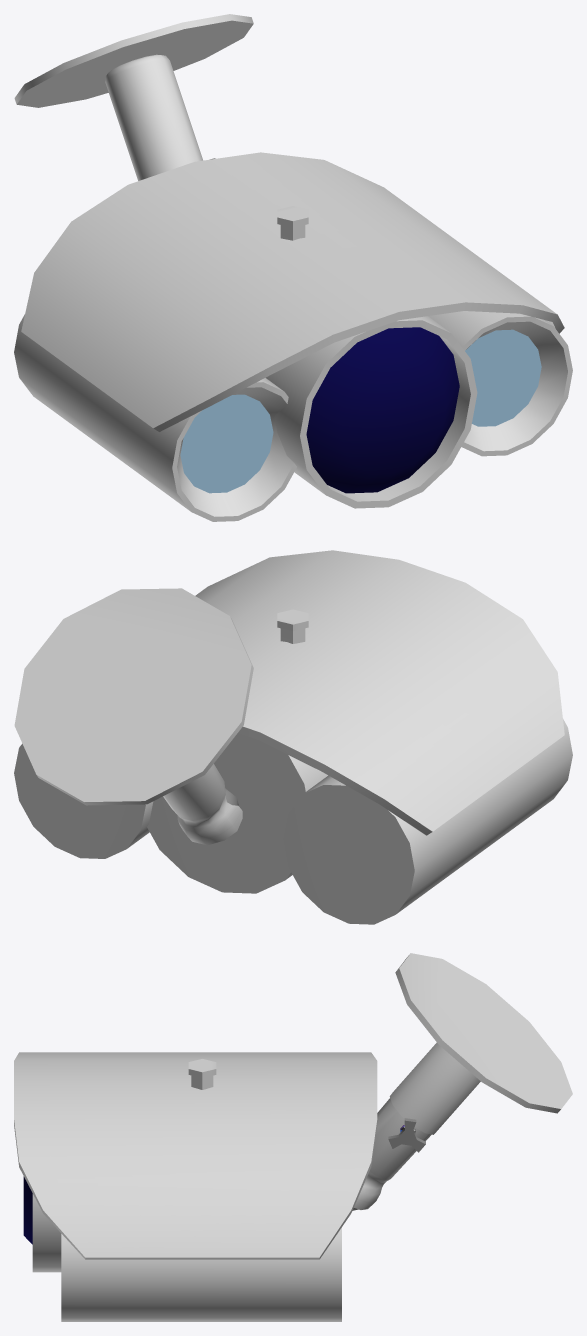
3 renders of one model, top to bottom at view 1: azimuth 30°, elevation 25°; view 2: azimuth 150°, elevation 25°; view 3: azimuth 270°, elevation 25°, orthographic. The views are drawn at different scales.
Visible parts, largest first — view 1: Lo-Body_01; view 2: Lo-Body_01; view 3: Lo-Body_01.
Part boxes in pixels (x1=…): Lo-Body_01: x1=14, y1=14, x2=572, y2=521; Lo-Body_01: x1=14, y1=550, x2=572, y2=924; Lo-Body_01: x1=14, y1=953, x2=572, y2=1321.
Bounding box in the file's own units: 0.1571 × 0.1217 × 0.2084.
Materials: 1 (1 with a texture image).
